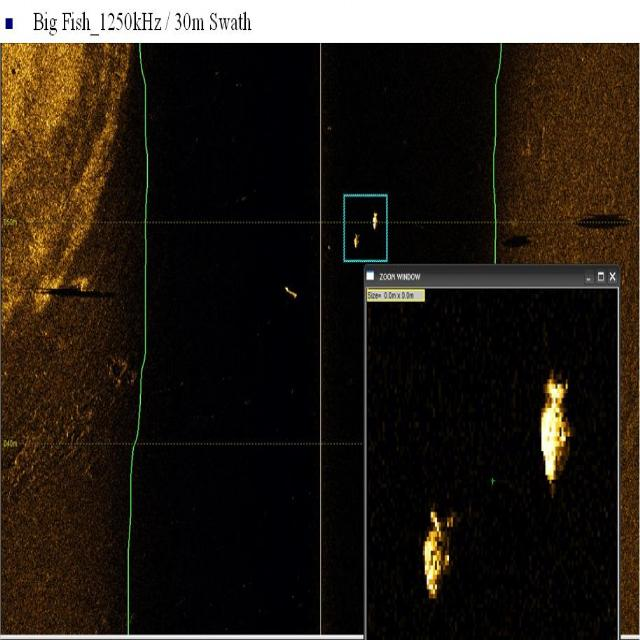fish: (536, 373, 580, 502), (418, 507, 464, 599), (349, 228, 363, 249), (370, 209, 380, 231)
